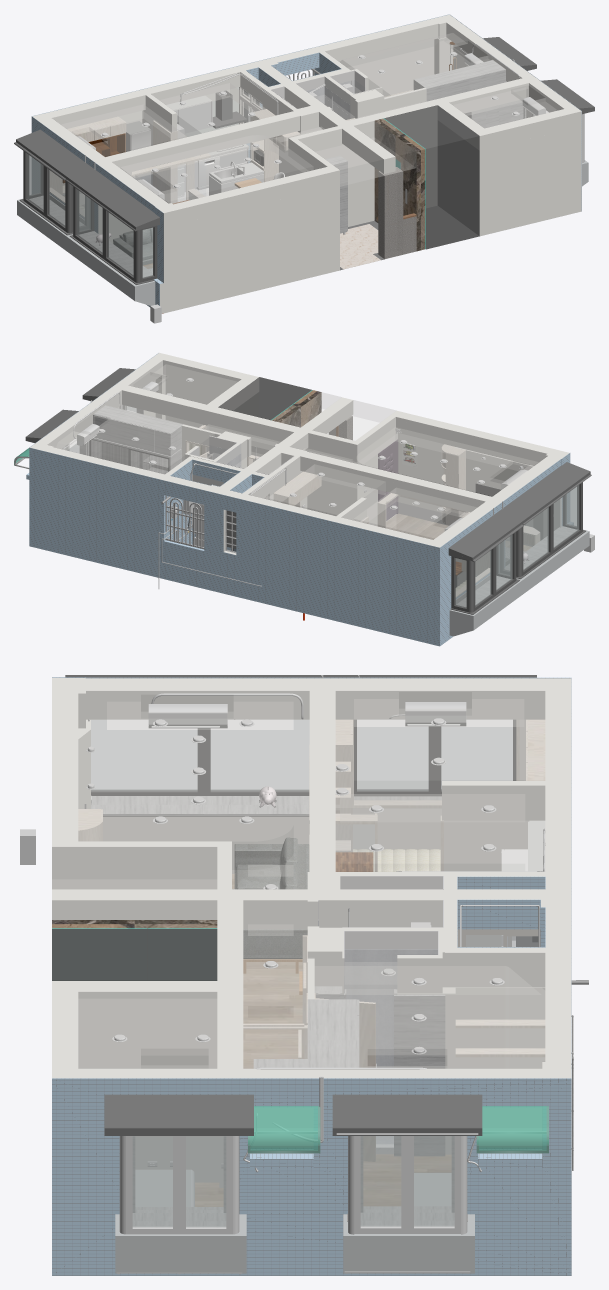
File: home.min.glb
3 views of the same model, one above another, from view 1: azimuth 30°, elevation 25°; view 2: azimuth 150°, elevation 25°; view 3: azimuth 270°, elevation 25° (orthographic). The views are drawn at different scales.
Parts seen in each view (by area): view 1: Geom3D_ (×30), Geom3D_$Ceil_Wooden_Deco, Geom3D_$Wall_Concrete_1, Geom3D (×15), Geom3D_$Wall_Concrete_6, Geom3D_$Wall_Concrete_5, Geom3D_$Wall_Concrete_4, Geom3D_$Tile_Balcony, Geom3D_$Wall_Concrete_8, Geom3D_$Deco_Wall_Room_B_1, Geom3D_$Deco_Wall_Room_B_3, Geom3D_$Wall_Concrete_3; view 2: Geom3D_ (×21), Geom3D_$Tile_Outer_Wall_2, Geom3D_$Ceil_Wooden_Deco, Geom3D (×14), Geom3D_$Wall_Concrete_1, Geom3D_$TV_Wall, Geom3D_$Tile_Balcony, Geom3D_$Wall_Concrete_5, Geom3D_$Floor_Laminate_Main, Geom3D_$Deco_Wall_Room_B_1, Geom3D_$Wall_Concrete_8, Geom3D_$Wall_Concrete_4; view 3: Geom3D_ (×38), Geom3D_$Ceil_Wooden_Deco, Geom3D_$Tile_Outer_Wall_3, Geom3D (×13), Geom3D_$Wall_Concrete_1, Geom3D_$Floor_Laminate_Main, Geom3D_$Wall_Concrete_4, Geom3D_$Deco_Wall_Room_B_2, Geom3D_$Wall_Concrete_5, Geom3D_$Wall_Concrete_2, Geom3D_$Tile_Balcony, Geom3D_$Wall_Concrete_3 (+5 smaller).
Part boxes in pixels (left/top/right/bottom): Geom3D_ (×30): left=16, top=14, right=594, bottom=313; Geom3D_$Ceil_Wooden_Deco: left=52, top=22, right=563, bottom=203; Geom3D_$Wall_Concrete_1: left=180, top=120, right=571, bottom=309; Geom3D (×15): left=24, top=116, right=163, bottom=307; Geom3D_$Wall_Concrete_6: left=340, top=40, right=434, bottom=96; Geom3D_$Wall_Concrete_5: left=240, top=51, right=349, bottom=176; Geom3D_$Wall_Concrete_4: left=119, top=87, right=238, bottom=185; Geom3D_$Tile_Balcony: left=246, top=52, right=341, bottom=162; Geom3D_$Wall_Concrete_8: left=350, top=89, right=384, bottom=118; Geom3D_$Deco_Wall_Room_B_1: left=384, top=88, right=426, bottom=111; Geom3D_$Deco_Wall_Room_B_3: left=434, top=37, right=453, bottom=74; Geom3D_$Wall_Concrete_3: left=98, top=172, right=132, bottom=243; Geom3D_ (×21): left=25, top=352, right=590, bottom=636; Geom3D_$Tile_Outer_Wall_2: left=29, top=447, right=439, bottom=646; Geom3D_$Ceil_Wooden_Deco: left=47, top=360, right=546, bottom=539; Geom3D (×14): left=105, top=418, right=582, bottom=645; Geom3D_$Wall_Concrete_1: left=165, top=375, right=534, bottom=525; Geom3D_$TV_Wall: left=455, top=447, right=561, bottom=546; Geom3D_$Tile_Balcony: left=163, top=459, right=264, bottom=551; Geom3D_$Wall_Concrete_5: left=165, top=455, right=307, bottom=508; Geom3D_$Floor_Laminate_Main: left=386, top=513, right=531, bottom=551; Geom3D_$Deco_Wall_Room_B_1: left=182, top=424, right=221, bottom=461; Geom3D_$Wall_Concrete_8: left=217, top=431, right=251, bottom=468; Geom3D_$Wall_Concrete_4: left=336, top=497, right=366, bottom=521; Geom3D_ (×38): left=52, top=675, right=571, bottom=1273; Geom3D_$Ceil_Wooden_Deco: left=52, top=691, right=544, bottom=1068; Geom3D_$Tile_Outer_Wall_3: left=52, top=1078, right=571, bottom=1275; Geom3D (×13): left=91, top=720, right=512, bottom=1226; Geom3D_$Wall_Concrete_1: left=52, top=841, right=231, bottom=1182; Geom3D_$Floor_Laminate_Main: left=195, top=874, right=451, bottom=1206; Geom3D_$Wall_Concrete_4: left=442, top=781, right=545, bottom=946; Geom3D_$Deco_Wall_Room_B_2: left=397, top=987, right=545, bottom=1154; Geom3D_$Wall_Concrete_5: left=307, top=872, right=545, bottom=987; Geom3D_$Wall_Concrete_2: left=103, top=816, right=309, bottom=873; Geom3D_$Tile_Balcony: left=457, top=876, right=545, bottom=947; Geom3D_$Wall_Concrete_3: left=353, top=719, right=525, bottom=849.
Size of the model in its own units: 13.42 by 3.18 by 7.14.
97 materials, 50 textured.
